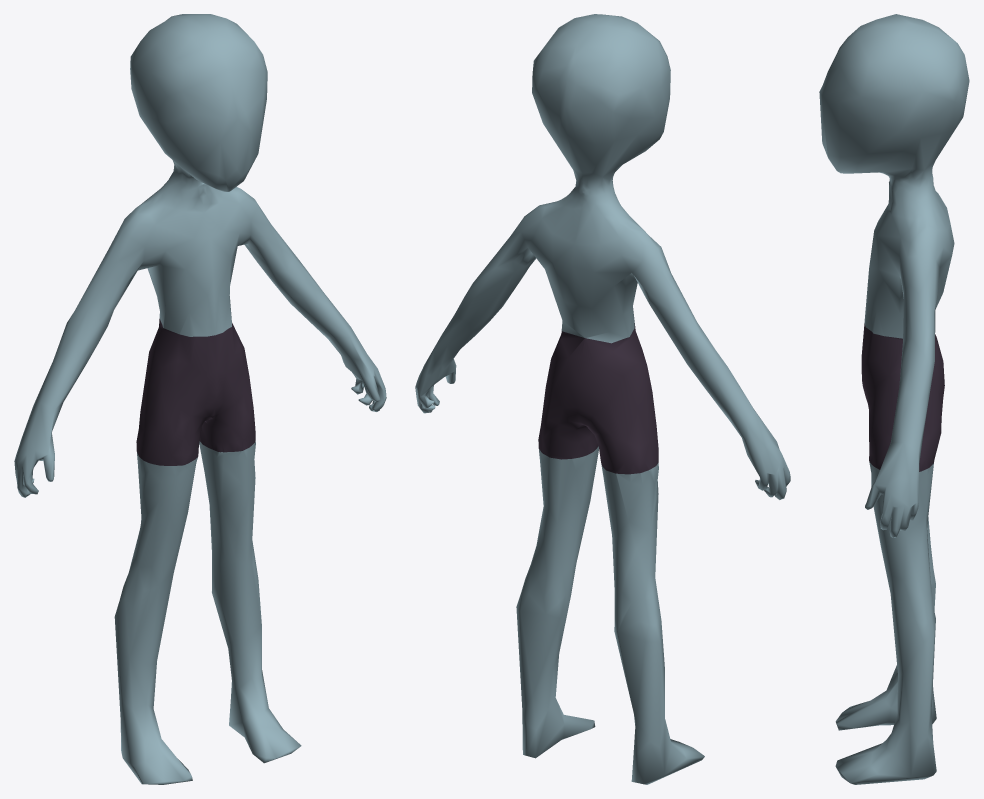
Rendered from protagonista_corpo_limpo.glb.
3 views of the same model, side by side, from view 1: azimuth 30°, elevation 25°; view 2: azimuth 150°, elevation 25°; view 3: azimuth 270°, elevation 25° (orthographic).
Parts seen in each view (by area): view 1: cabeca, bracos, roupa_intima, tronco, canelas, coxas, pes, maos, quadril; view 2: cabeca, roupa_intima, bracos, tronco, canelas, coxas, pes, maos, quadril; view 3: cabeca, bracos, tronco, canelas, roupa_intima, pes, coxas, maos, quadril.
Part boxes in pixels (bbox=[...]): cabeca: bbox=[130, 14, 267, 191]; bracos: bbox=[22, 189, 373, 456]; roupa_intima: bbox=[136, 319, 255, 465]; tronco: bbox=[105, 169, 286, 335]; canelas: bbox=[114, 541, 268, 739]; coxas: bbox=[128, 441, 255, 590]; pes: bbox=[120, 680, 301, 784]; maos: bbox=[14, 355, 386, 497]; quadril: bbox=[157, 294, 231, 336]; cabeca: bbox=[532, 14, 670, 194]; roupa_intima: bbox=[538, 323, 658, 474]; bracos: bbox=[420, 206, 777, 479]; tronco: bbox=[496, 181, 669, 337]; canelas: bbox=[516, 564, 664, 751]; coxas: bbox=[530, 446, 658, 602]; pes: bbox=[522, 697, 704, 784]; maos: bbox=[415, 365, 790, 499]; quadril: bbox=[561, 302, 634, 343]; cabeca: bbox=[819, 14, 969, 187]; bracos: bbox=[872, 231, 943, 486]; tronco: bbox=[864, 177, 954, 326]; canelas: bbox=[887, 547, 935, 752]; roupa_intima: bbox=[861, 324, 944, 471]; pes: bbox=[835, 681, 936, 784]; coxas: bbox=[869, 462, 933, 601]; maos: bbox=[865, 477, 918, 537]; quadril: bbox=[864, 288, 940, 338].
Bounding box in the file's own units: 0.4162 × 0.8 × 0.1496.
